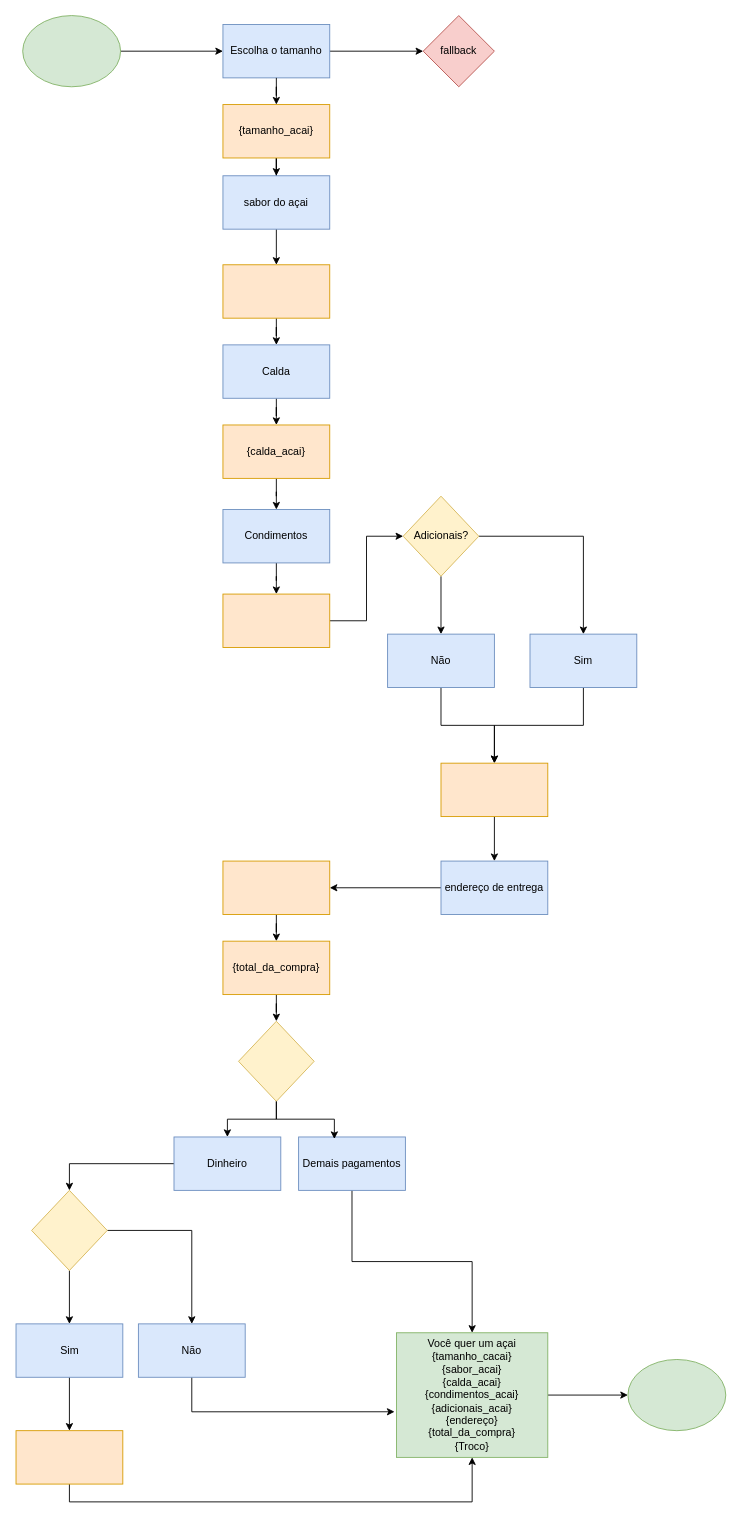
Image size: 741x1525. Some labels were removed from this diagram. The centre of each missing label's shape, as x and y in pixels:
"Cumprimento" belongs at pixel 71 51.
"Fim" belongs at pixel 676 1395.
"forma de pagamento" belongs at pixel 276 1060.
"Precisa de troco?" belongs at pixel 69 1229.
"{adicionais_acai}" belongs at pixel 494 789.
"{condimentos_acai}" belongs at pixel 276 620.
"{endereço}" belongs at pixel 276 887.
"{sabor_acai}" belongs at pixel 276 291.
"{Troco}" belongs at pixel 69 1457.
